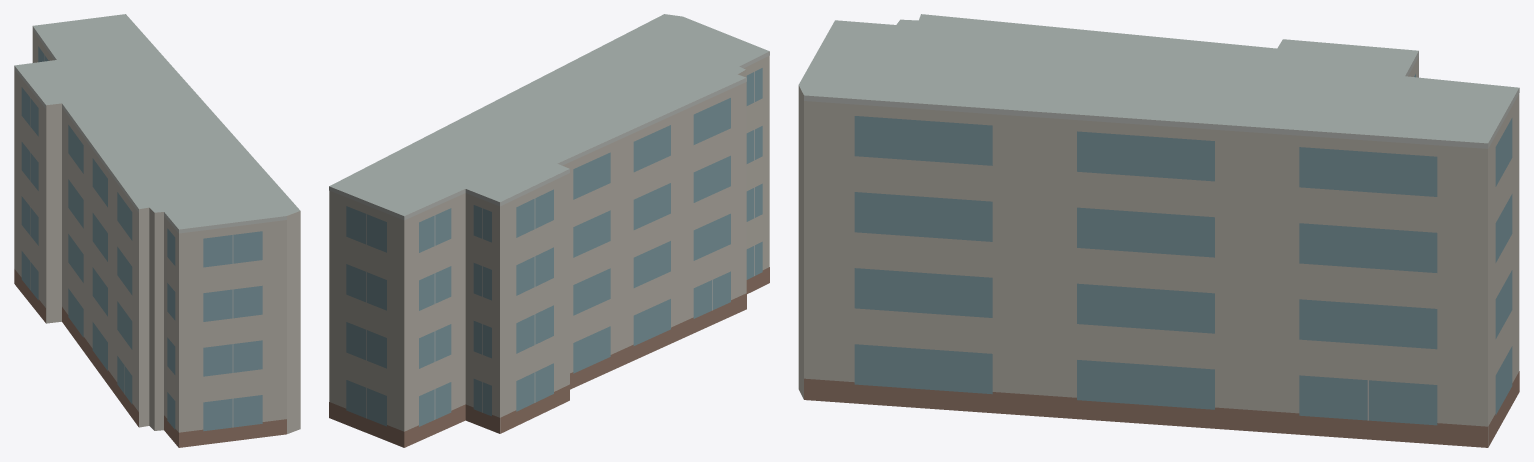
File: survey-upis-32927469.glb
3 views of the same model, side by side, from view 1: azimuth 30°, elevation 25°; view 2: azimuth 150°, elevation 25°; view 3: azimuth 270°, elevation 25° (orthographic). The views are drawn at different scales.
Visible parts, largest first — view 1: survey-upis-32927469.tmp; view 2: survey-upis-32927469.tmp; view 3: survey-upis-32927469.tmp.
Boxes of the visible parts, x1=… form: survey-upis-32927469.tmp: x1=14, y1=14, x2=300, y2=447; survey-upis-32927469.tmp: x1=329, y1=14, x2=769, y2=447; survey-upis-32927469.tmp: x1=798, y1=14, x2=1519, y2=447.
Size of the model in its own units: 12.27 by 13.45 by 28.87.
